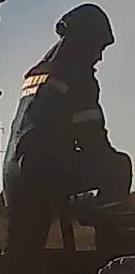vest: (1, 57, 102, 214)
